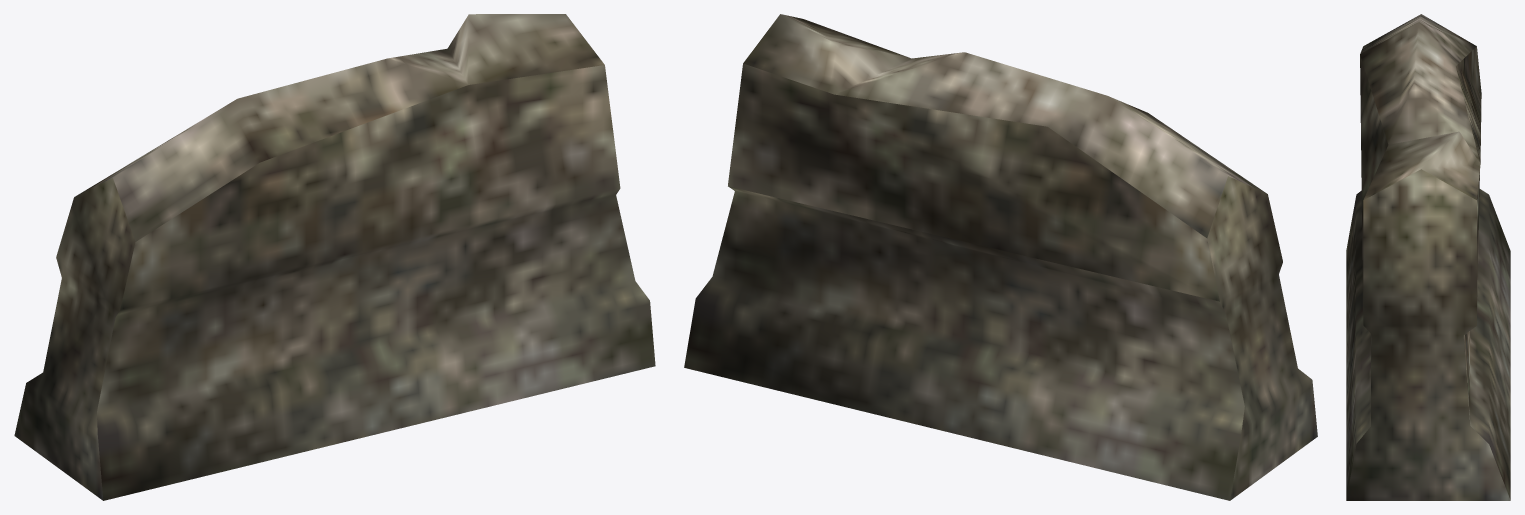
The model's file is b_general_obj_17.glb.
The picture shows the model from 3 angles, left to right: view 1: azimuth 30°, elevation 25°; view 2: azimuth 150°, elevation 25°; view 3: azimuth 270°, elevation 25°; orthographic projection. The views are drawn at different scales.
Parts seen in each view (by area): view 1: Object01; view 2: Object01; view 3: Object01.
Part boxes in pixels (x1,y1,x2,y2): Object01: (14, 14, 655, 500); Object01: (684, 14, 1317, 500); Object01: (1346, 14, 1510, 500).
Bounding box in the file's own units: 1.86 × 1.09 × 0.5184.
Materials: 1 (1 with a texture image).
